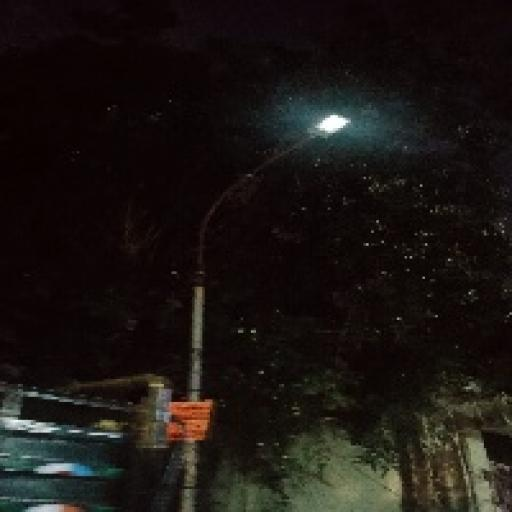Working: (303, 107, 355, 142)
